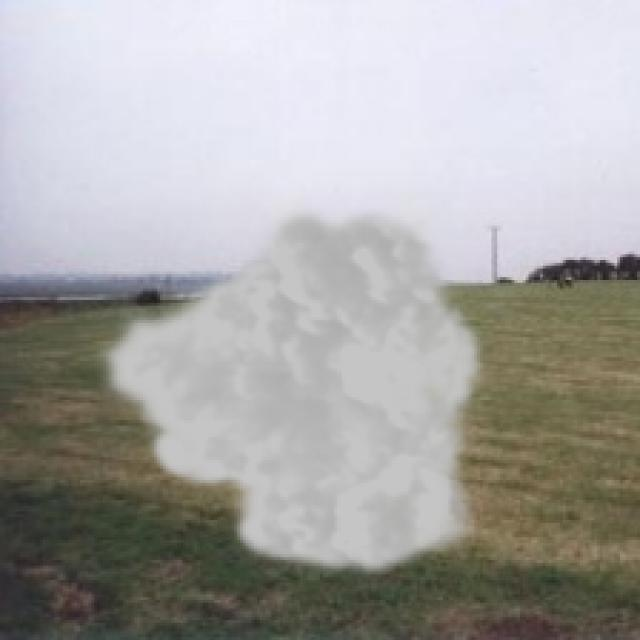smoke: (91, 197, 488, 583)
